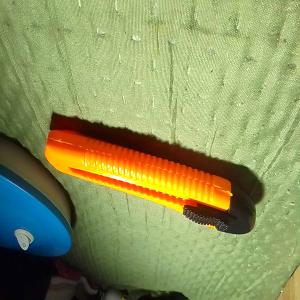estilete: (44, 129, 257, 235)
